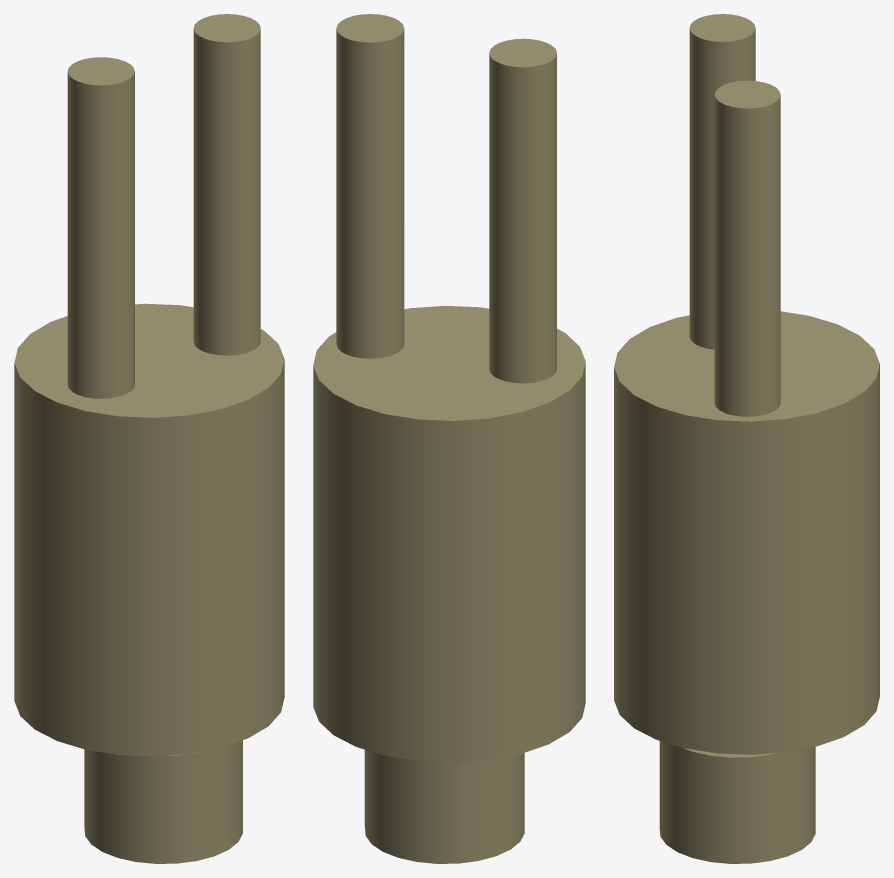
Rendered from anotherrobot.dae.
3 renders of one model, left to right at view 1: azimuth 30°, elevation 25°; view 2: azimuth 150°, elevation 25°; view 3: azimuth 270°, elevation 25°, orthographic. The views are drawn at different scales.
Parts seen in each view (by area): view 1: SketchUp (×4); view 2: SketchUp (×4); view 3: SketchUp (×4).
Part boxes in pixels (box(x1,y1,x2,y2)): SketchUp (×4): box(14, 14, 284, 863); SketchUp (×4): box(313, 14, 585, 863); SketchUp (×4): box(614, 14, 879, 863).
Bounding box in the file's own units: 97.52 × 97.52 × 311.
